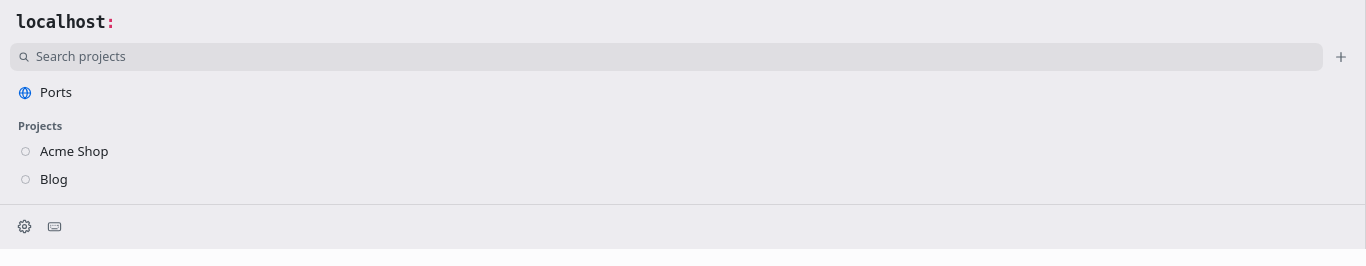
Scenario: Sidebar › filters projects by name or Key, and opens the first match with Return
Type "shop" into the search field labelled "Search projects" at point(676, 57), box [36, 49, 1315, 66]
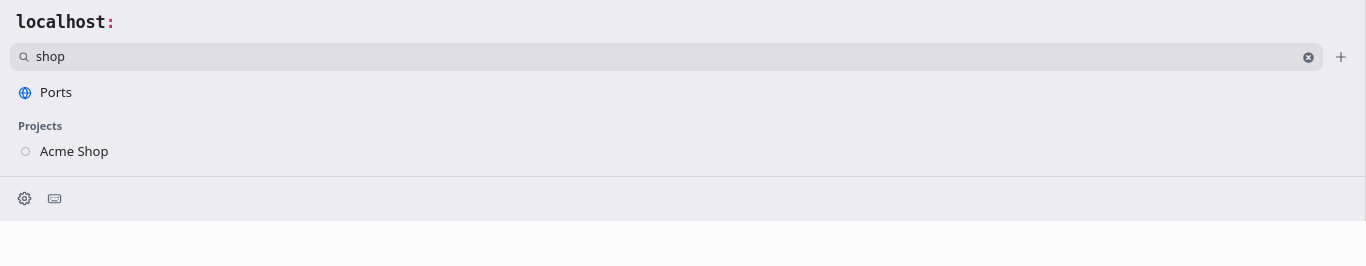
Press Enter in the search field named "Search projects", box [36, 49, 1296, 66]
Replace the text in the search field named "Search projects" with "zzz" at point(666, 57), box [36, 49, 1296, 66]
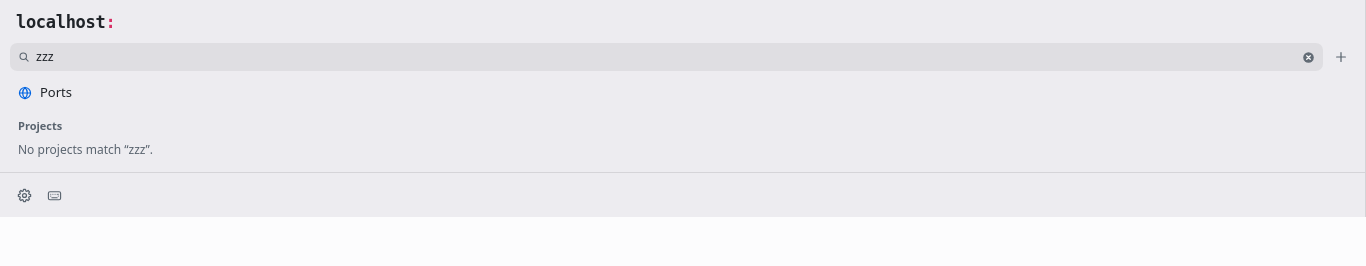
expect the list item "No projects match “zzz”." is shown: met, box [18, 141, 153, 158]
